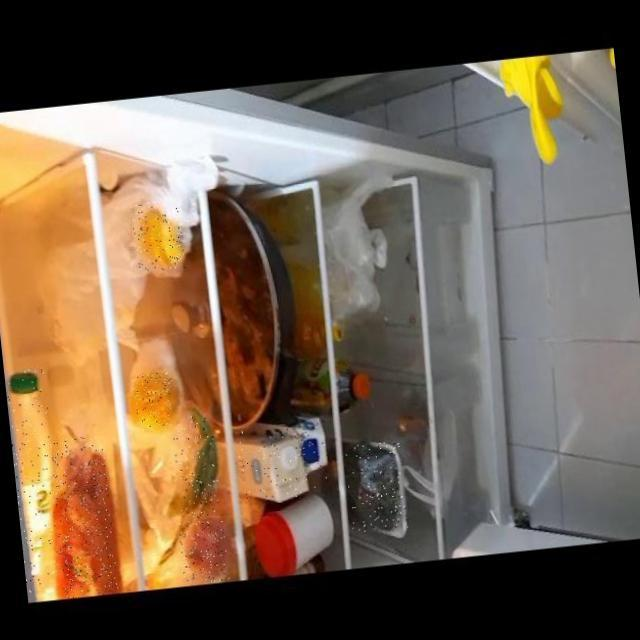Brocoli: (343, 439, 408, 531)
Limón: (130, 198, 186, 273), (130, 370, 178, 432)
Zanahoria: (49, 433, 118, 598)
green chilies: (171, 412, 222, 522)
milk: (4, 367, 67, 593), (236, 416, 332, 501)
tomato paste: (178, 515, 230, 584)
